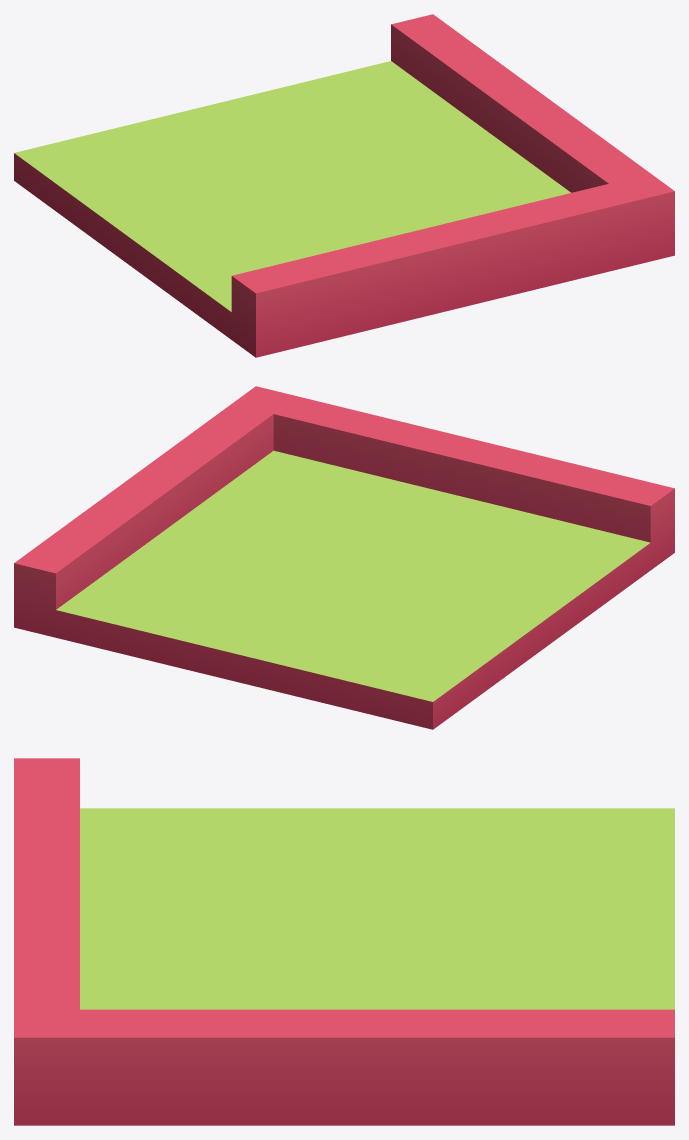
Rendered from corner.fbx.
3 renders of one model, top to bottom at view 1: azimuth 30°, elevation 25°; view 2: azimuth 150°, elevation 25°; view 3: azimuth 270°, elevation 25°, orthographic. The views are drawn at different scales.
Visible parts, largest first — view 1: corner; view 2: corner; view 3: corner.
Boxes of the visible parts, x1,y1,x2,y2 form: corner: (14,14,674,357); corner: (14,386,674,729); corner: (14,758,674,1125).
Size of the model in its own units: 99.99 by 14.67 by 99.99.
